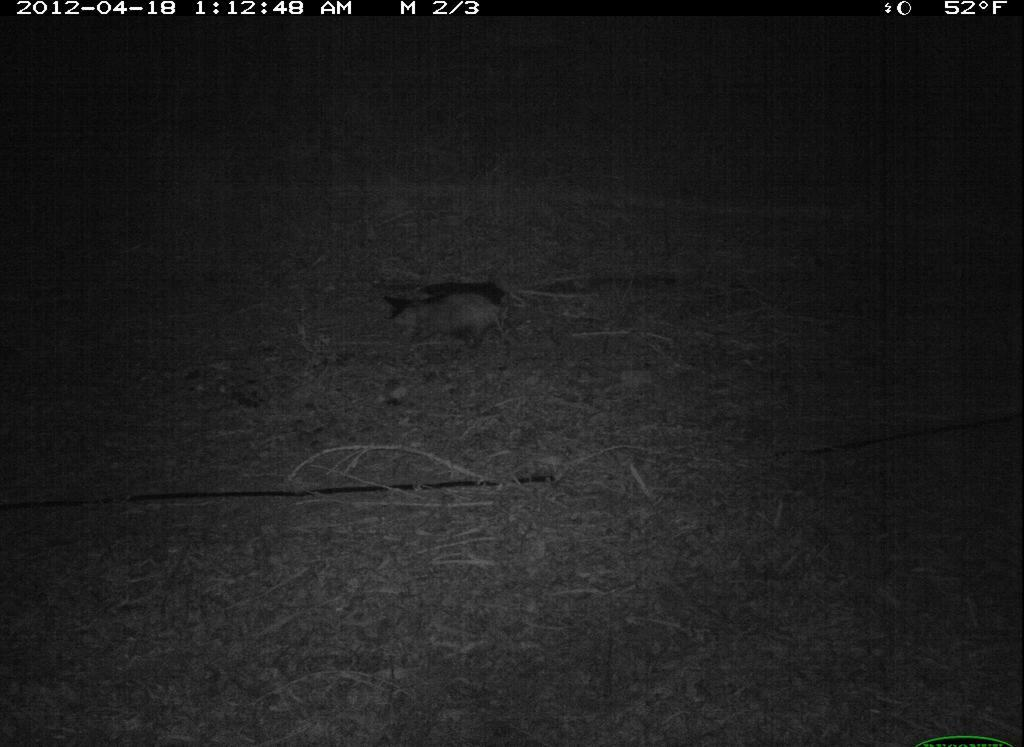opossum: (369, 272, 541, 364)
